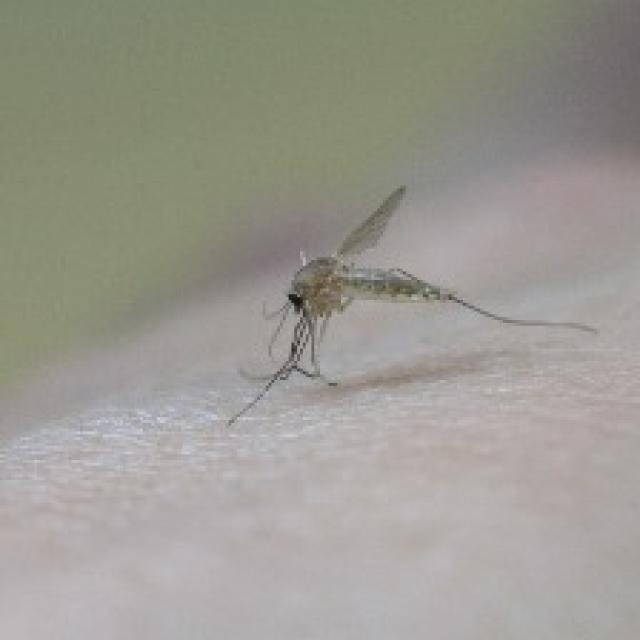culex: (223, 183, 597, 426)
